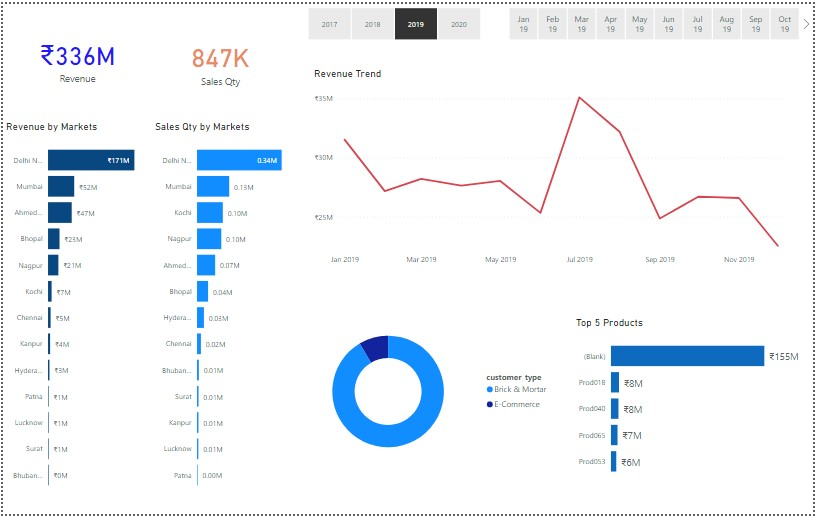

Layout of this report page (visuals, bound fields, positions):
{"tool":"powerbi","page":{"name":"Key Insights","canvas":[1350,850],"ordinal":0},"visuals":[{"type":"card","fields":{"Values":["BaseMeasures (2).Revenue"]},"box":[0,0,247.9,184.6],"z":0},{"type":"card","fields":{"Values":["BaseMeasures (2).Sales Qty"]},"box":[247.9,0,227.9,193.1],"z":1000},{"type":"barChart","title":"Revenue by Markets","fields":{"Y":["BaseMeasures (2).Revenue"],"Category":["sales markets.markets_name"]},"box":[0,193.1,247.9,631.9],"z":2000},{"type":"barChart","title":"Sales Qty by Markets","fields":{"Y":["BaseMeasures (2).Sales Qty"],"Category":["sales markets.markets_name"]},"box":[247.9,193.1,247.9,631.9],"z":3000},{"type":"slicer","fields":{"Values":["sales date.year"]},"box":[483.2,0,335.5,66.5],"z":4000},{"type":"slicer","fields":{"Values":["sales date.cy_date"]},"box":[818.6,0,531.7,66.5],"z":5000},{"type":"donutChart","fields":{"Category":["sales customers.customer_type"],"Y":["BaseMeasures (2).Revenue"]},"box":[472.5,508.8,446.2,275],"z":6000},{"type":"barChart","title":"Top 5 Products","fields":{"Y":["BaseMeasures (2).Revenue"],"Category":["sales products.product_code"]},"box":[950.7,519.2,399.5,282.8],"z":7000},{"type":"lineChart","title":"Revenue Trend","fields":{"Y":["BaseMeasures (2).Revenue"],"Category":["sales date.cy_date"]},"box":[513.8,104.4,809.1,338.6],"z":8000}]}

Visuals, with their boxes in screenshot pixels (x1, y1, x2, y2), scaled from the page's 1350x850 canvas onto the 815x516 screenshot:
card - BaseMeasures (2).Revenue: 0,0,150,112
card - BaseMeasures (2).Sales Qty: 150,0,287,117
"Revenue by Markets" barChart: 0,117,150,501
"Sales Qty by Markets" barChart: 150,117,299,501
slicer - sales date.year: 292,0,494,40
slicer - sales date.cy_date: 494,0,814,40
donutChart - sales customers.customer_type x BaseMeasures (2).Revenue: 285,309,555,476
"Top 5 Products" barChart: 574,315,814,487
"Revenue Trend" lineChart: 310,63,799,269
